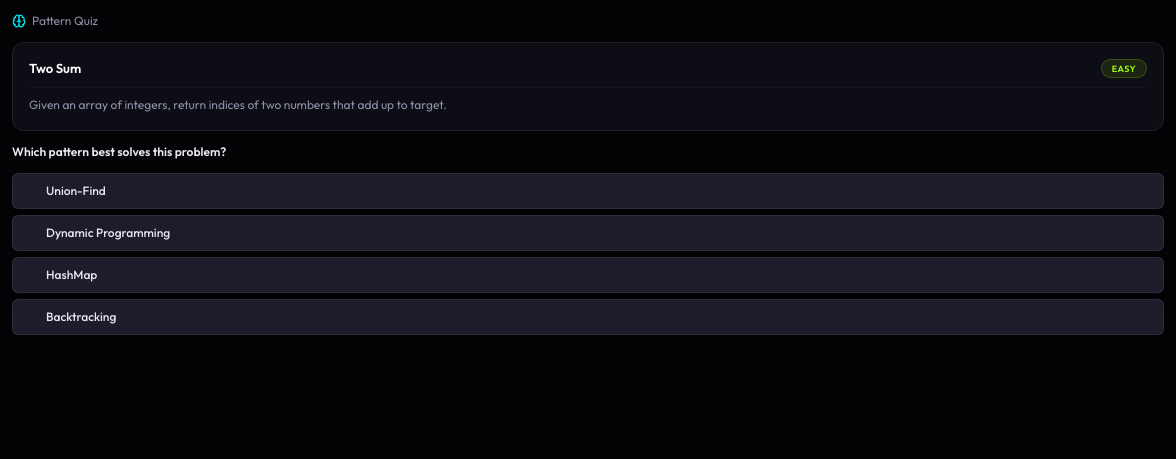
Scenario: PatternQuizPanel › answering correctly › shows Next Problem button after correct answer
What coordinates should you click on to do the following:
click the button "HashMap"
I would click on:
 (72, 274)
Its box is [12,256,1164,292].
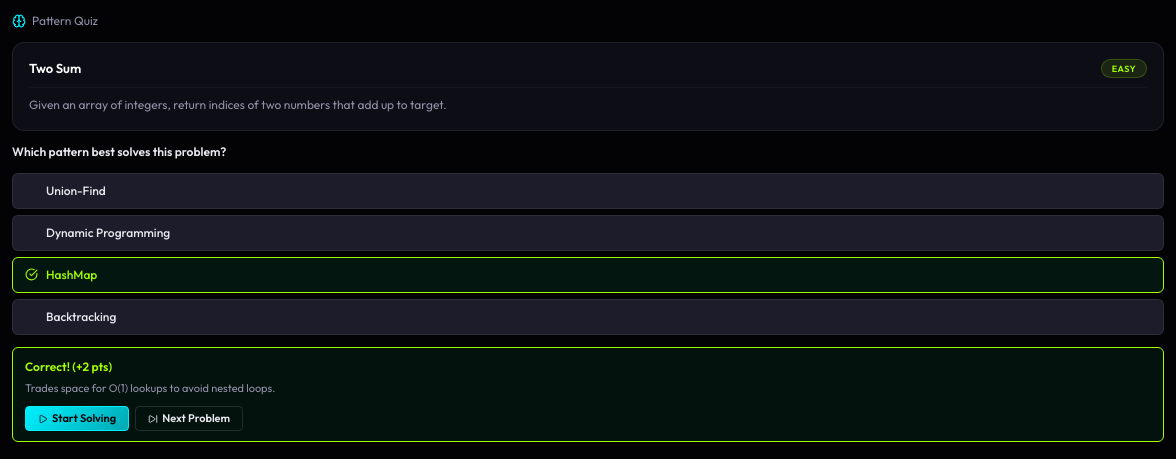
Check: the button "Next Problem" is shown, box [135,406,243,431]
